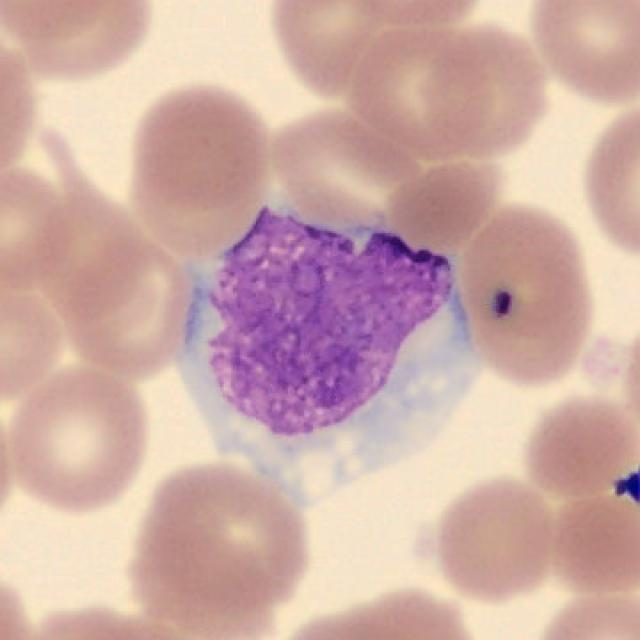Monocito: (180, 208, 482, 503)
